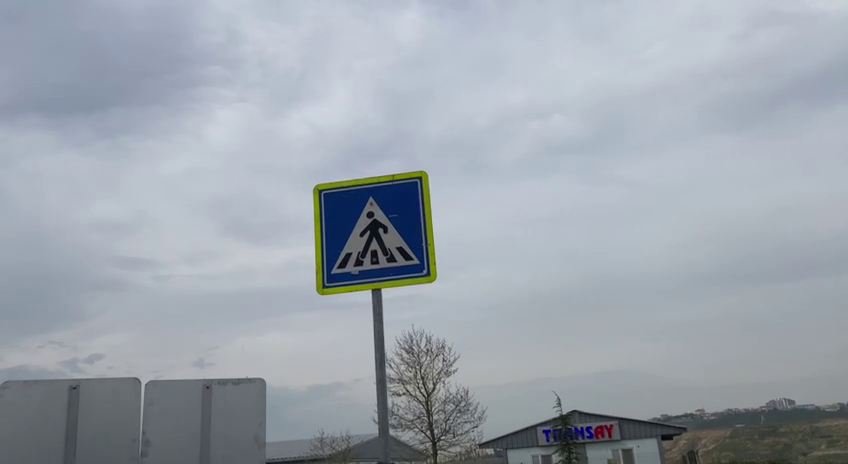pedestrianCrossing: (309, 168, 441, 297)
